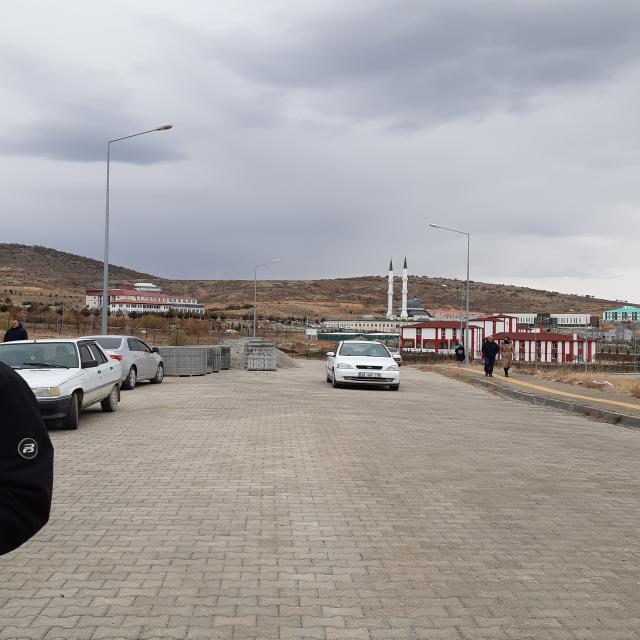license_plate: (360, 373, 381, 377)
